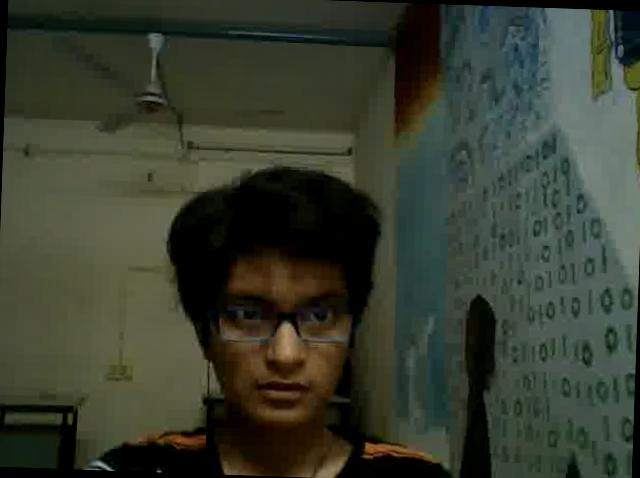bingung: (212, 242, 362, 438)
